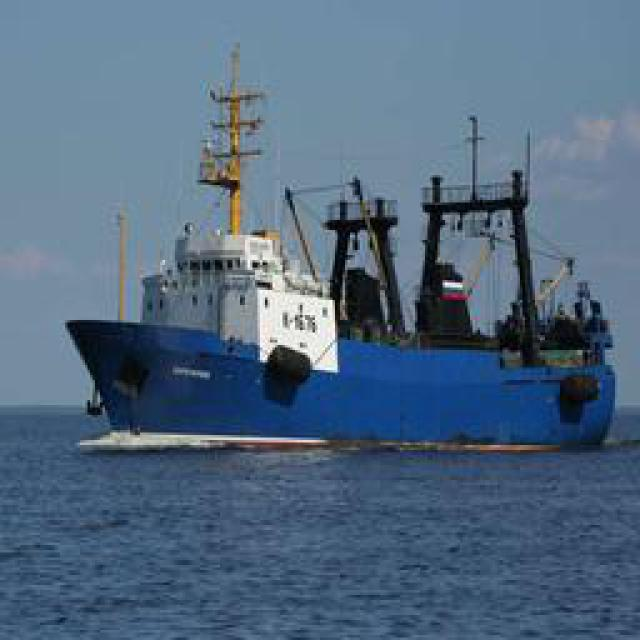Ship: (60, 70, 623, 453)
